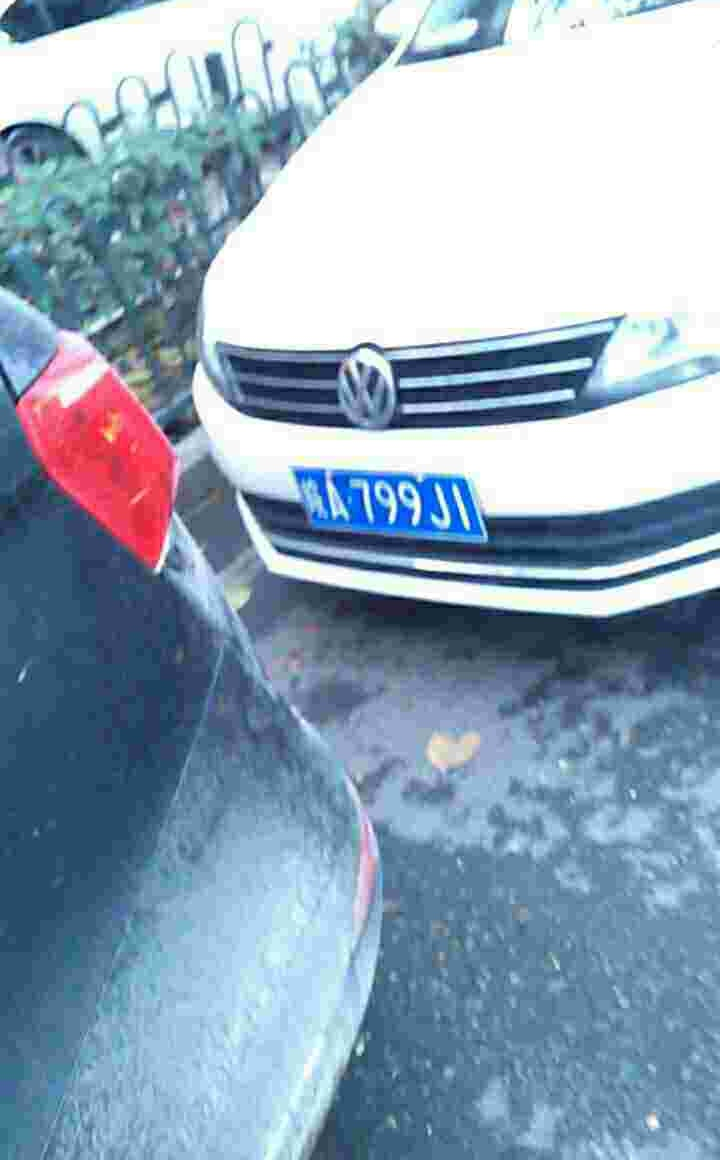license_plate: (292, 471, 482, 542)
